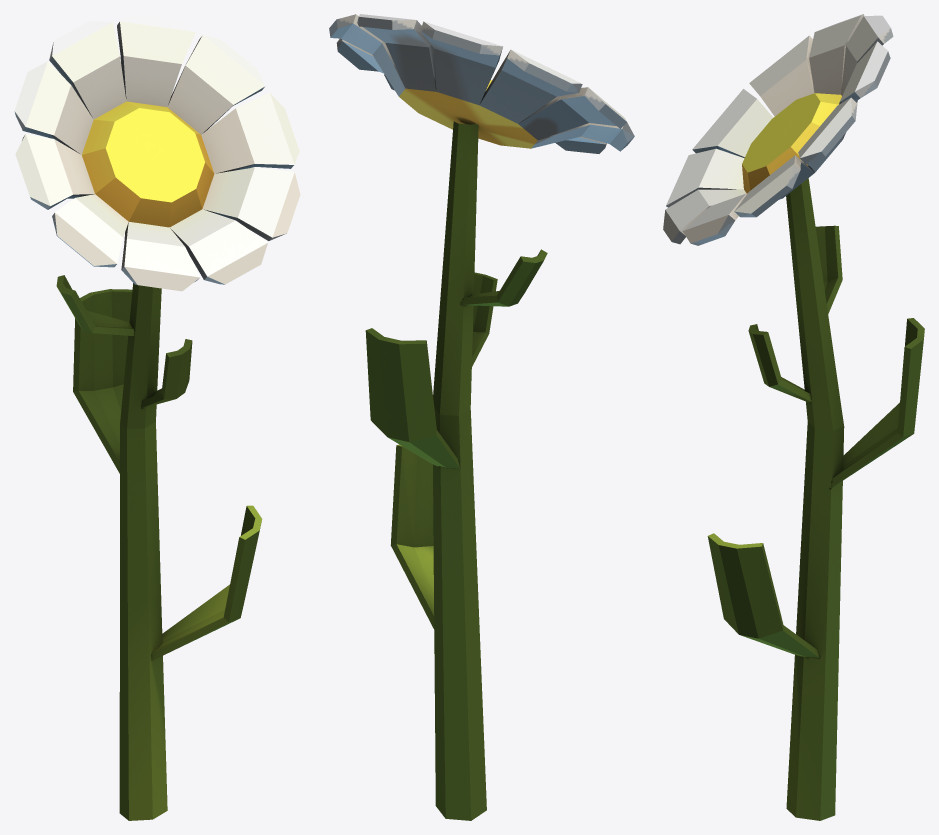
Rendered from 060458f1-44f3-4d4f-8fda-5fd276d74f7b.glb.
3 renders of one model, left to right at view 1: azimuth 30°, elevation 25°; view 2: azimuth 150°, elevation 25°; view 3: azimuth 270°, elevation 25°, orthographic. The views are drawn at different scales.
Parts seen in each view (by area): view 1: daisy; view 2: daisy; view 3: daisy.
Part boxes in pixels (box(x1,y1,x2,y2)): daisy: box(14, 14, 300, 820); daisy: box(329, 14, 634, 820); daisy: box(663, 14, 924, 820).
Size of the model in its own units: 0.756 by 2.1 by 0.6391.
Materials: 1 (1 with a texture image).
